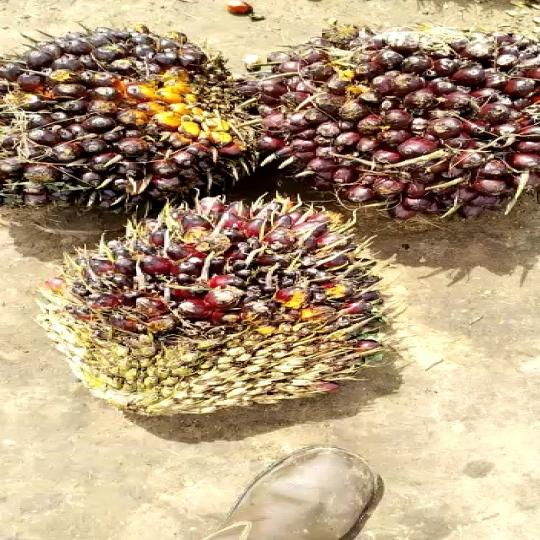kurang masak: (50, 189, 409, 438), (246, 18, 540, 230), (0, 28, 282, 203)
